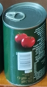tomatoes: (2, 2, 46, 87)
